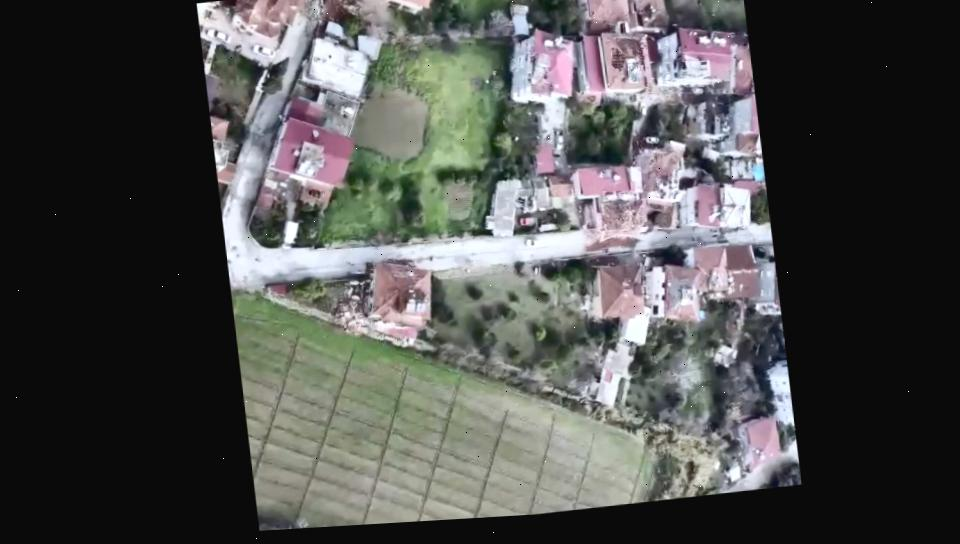kapali: (566, 221, 654, 258), (281, 0, 324, 48)
